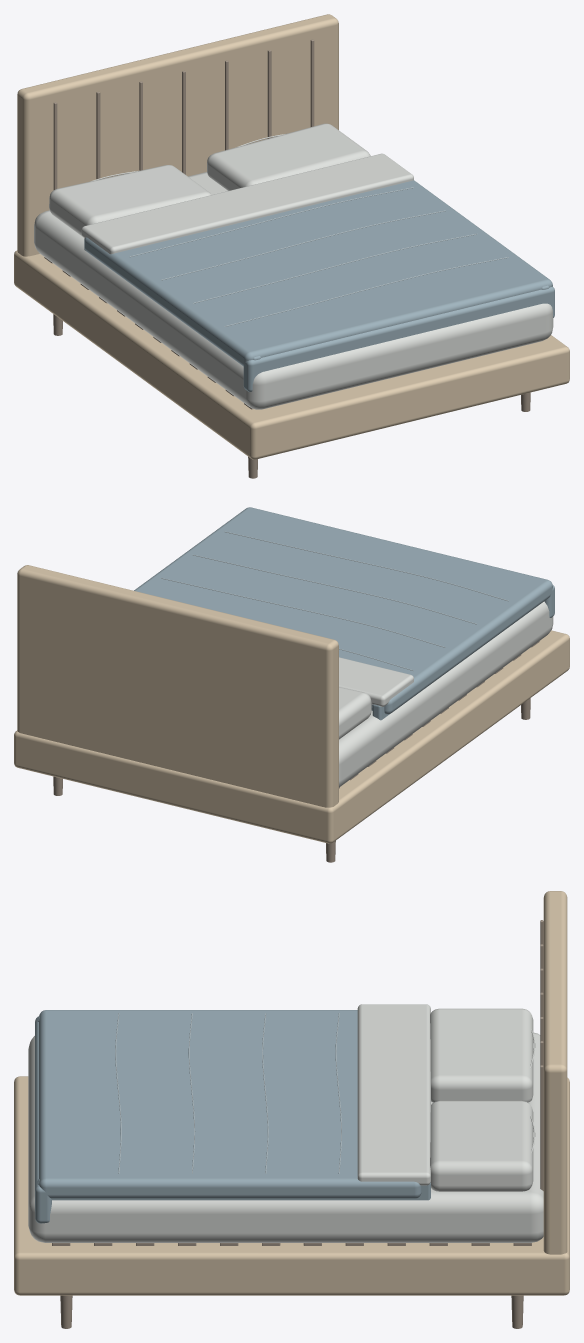
File: double-bed.glb
3 renders of one model, top to bottom at view 1: azimuth 30°, elevation 25°; view 2: azimuth 150°, elevation 25°; view 3: azimuth 270°, elevation 25°, orthographic. The views are drawn at different scales.
Parts seen in each view (by area): view 1: double-bed; view 2: double-bed; view 3: double-bed.
Boxes of the visible parts, <box> form: double-bed: <box>14,14,569,478</box>; double-bed: <box>14,507,569,862</box>; double-bed: <box>14,891,569,1328</box>.
Bounding box in the file's own units: 1.65 × 1.16 × 2.15.
